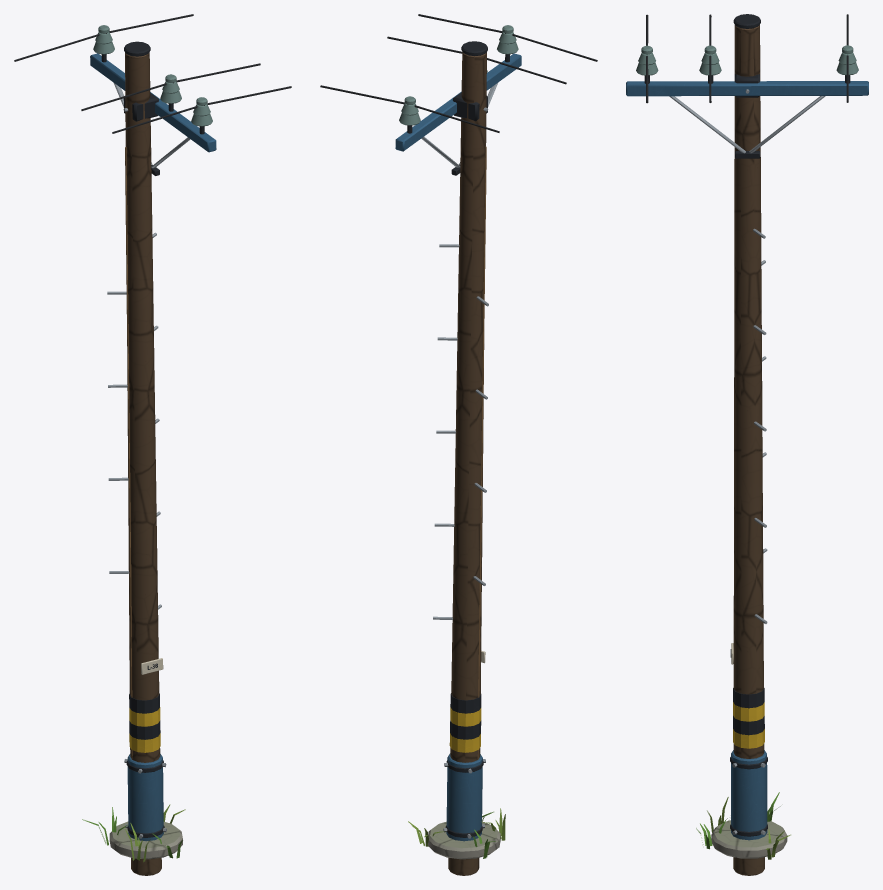
The model's file is colony_cable_pole.glb.
3 views of the same model, side by side, from view 1: azimuth 30°, elevation 25°; view 2: azimuth 150°, elevation 25°; view 3: azimuth 270°, elevation 25° (orthographic). The views are drawn at different scales.
Visible parts, largest first — view 1: colony_cable_pole; view 2: colony_cable_pole; view 3: colony_cable_pole.
Boxes of the visible parts, bbox=[...] form: colony_cable_pole: bbox=[14, 14, 291, 875]; colony_cable_pole: bbox=[320, 14, 597, 875]; colony_cable_pole: bbox=[626, 14, 868, 875].
Size of the model in its own units: 2 by 8.85 by 2.3.
13 materials, 13 textured.
